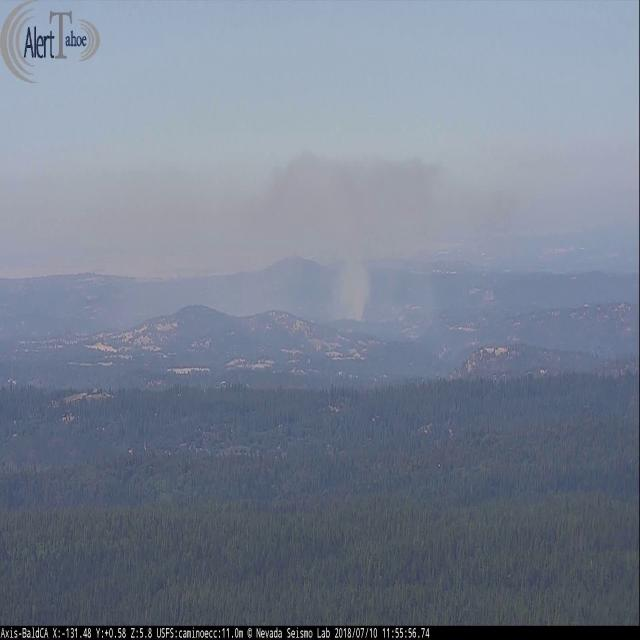smoke: (246, 135, 455, 324)
